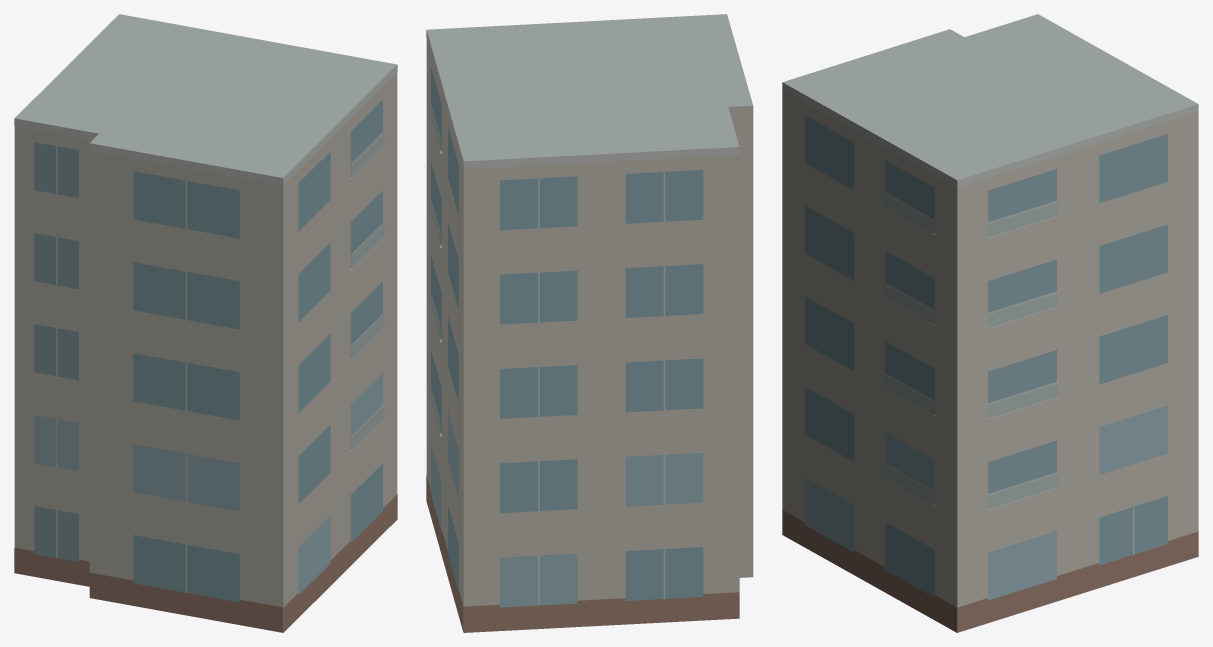
Rendered from survey-upis-32971768.glb.
The picture shows the model from 3 angles, left to right: view 1: azimuth 30°, elevation 25°; view 2: azimuth 150°, elevation 25°; view 3: azimuth 270°, elevation 25°; orthographic projection. The views are drawn at different scales.
Parts seen in each view (by area): view 1: survey-upis-32971768.tmp; view 2: survey-upis-32971768.tmp; view 3: survey-upis-32971768.tmp.
Part boxes in pixels (x1,y1,x2,y2): survey-upis-32971768.tmp: (14, 14, 397, 632); survey-upis-32971768.tmp: (426, 14, 753, 632); survey-upis-32971768.tmp: (782, 14, 1198, 632).
Bounding box in the file's own units: 11.55 × 14.65 × 12.22.
